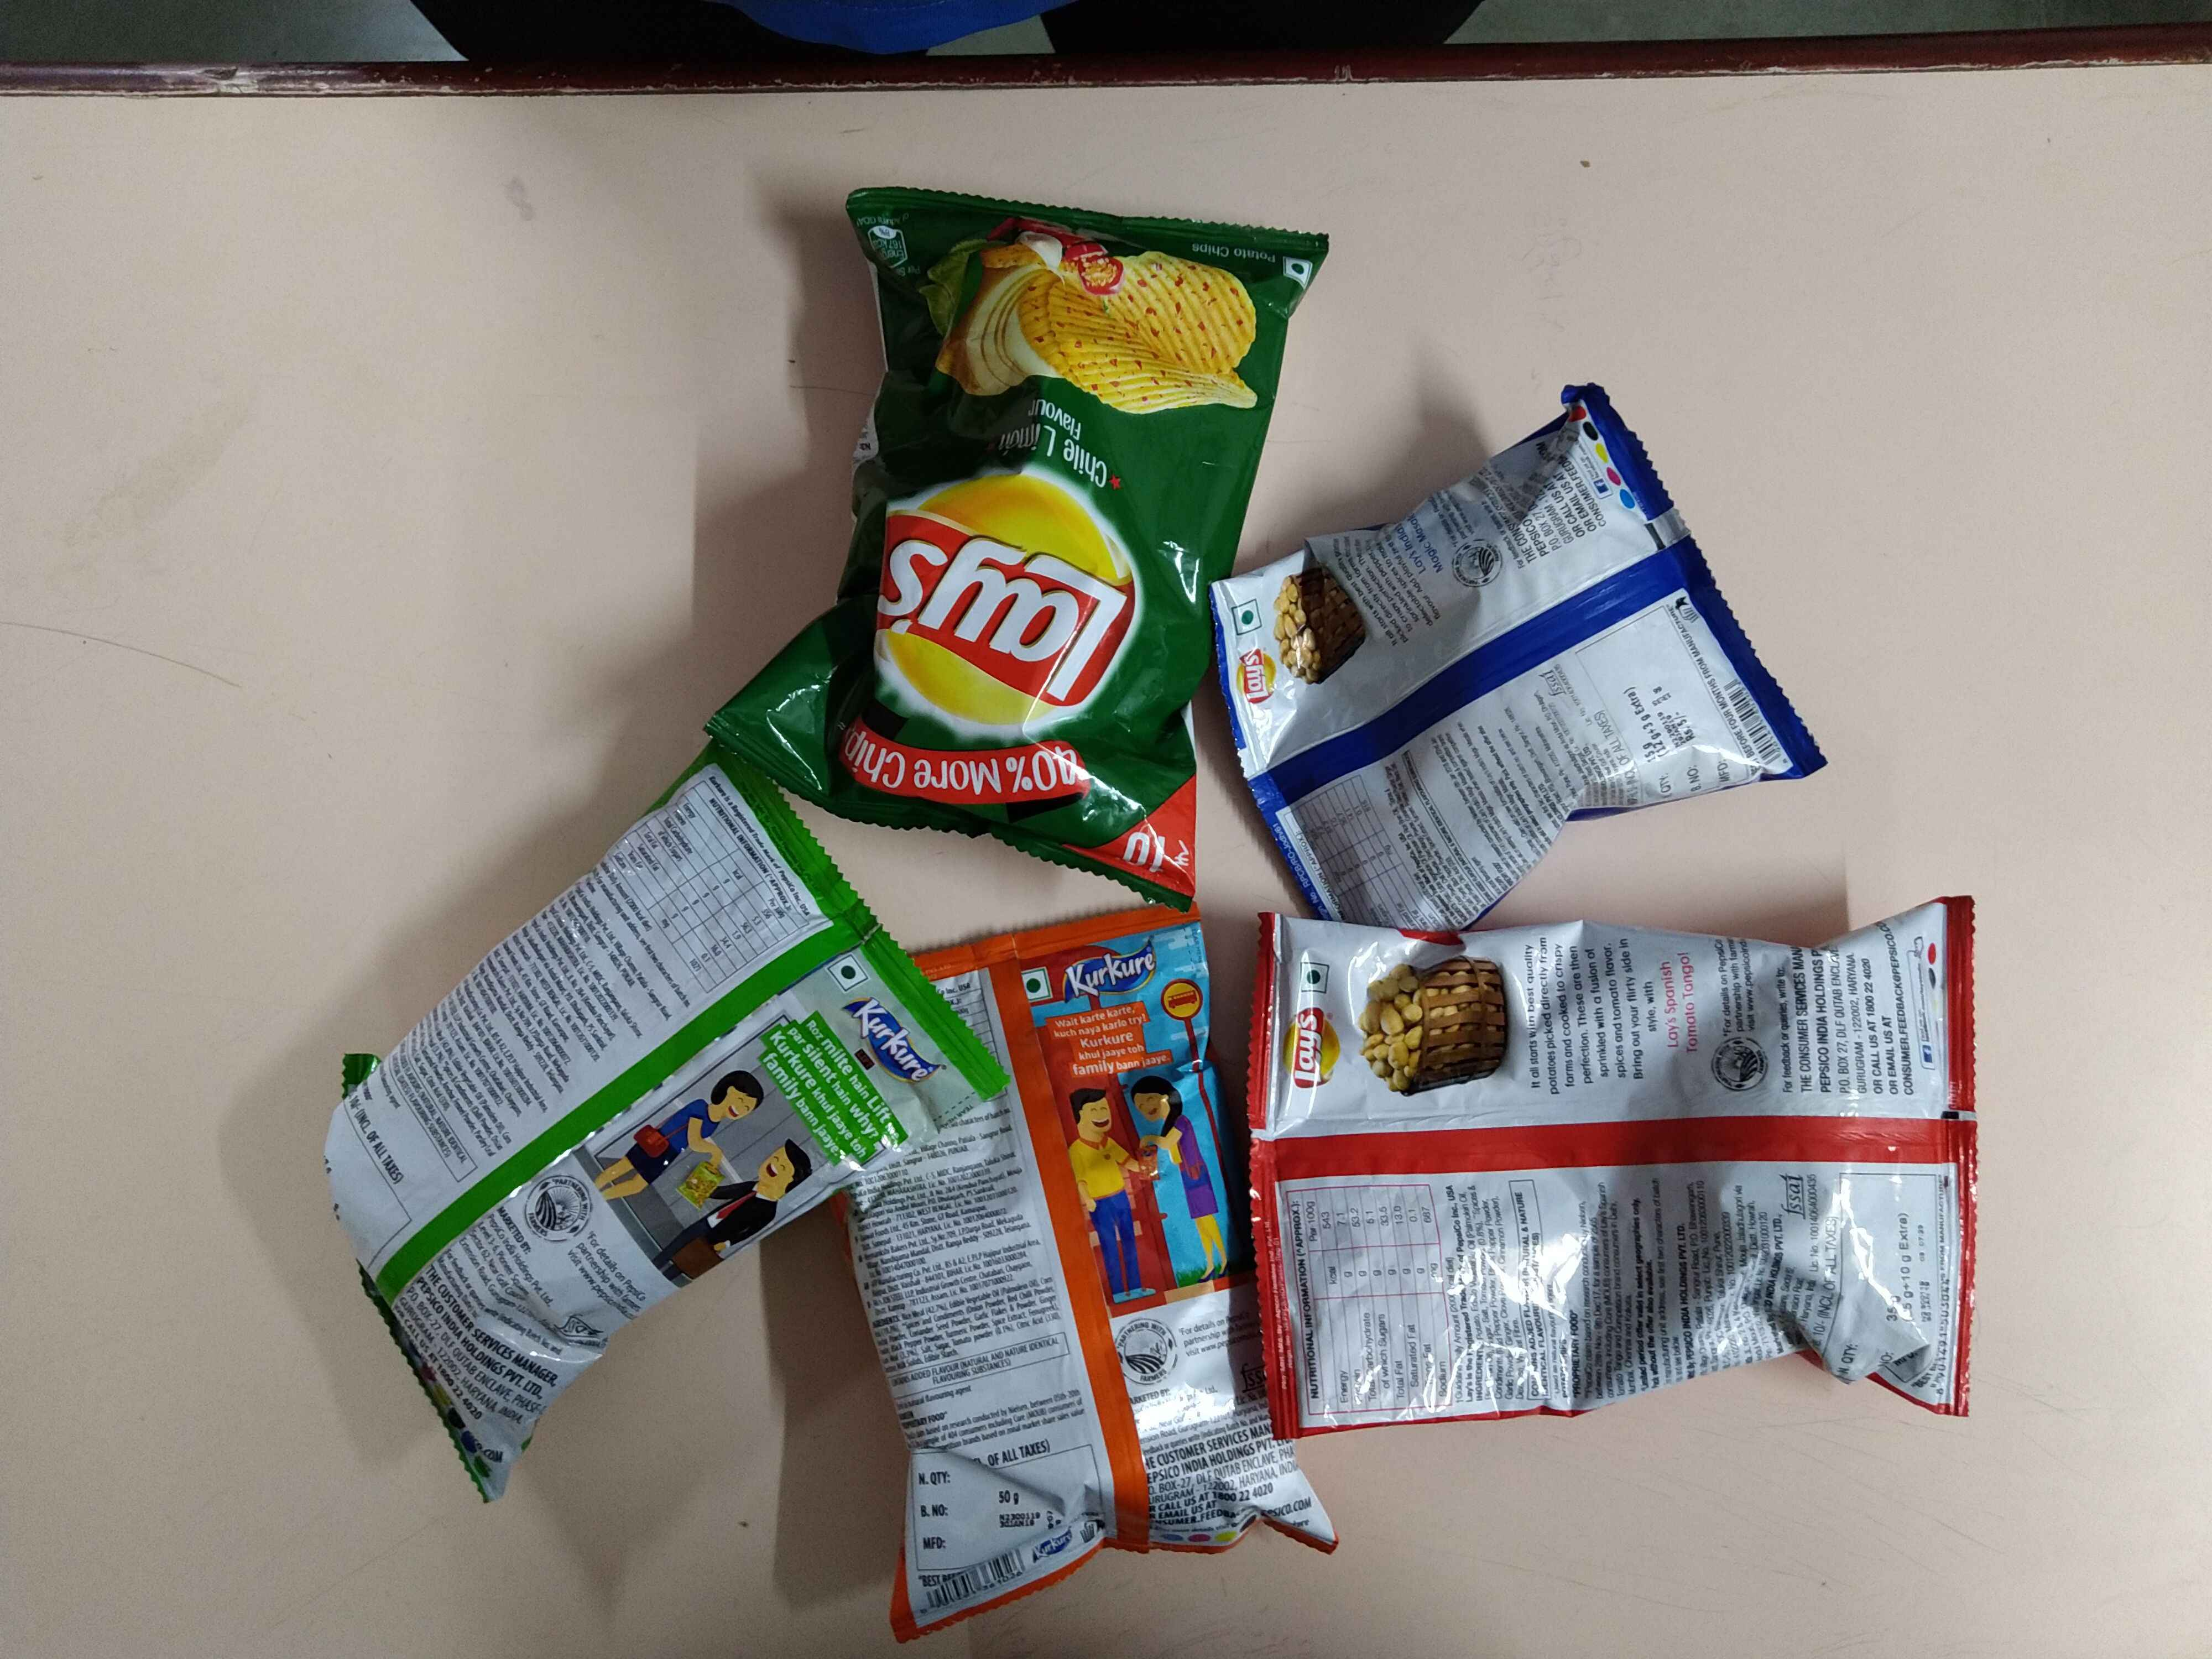Lays: (855, 453, 1146, 753), (1278, 999, 1345, 1107), (1233, 650, 1278, 718)
kurkure: (850, 988, 946, 1098), (1043, 953, 1183, 993)
